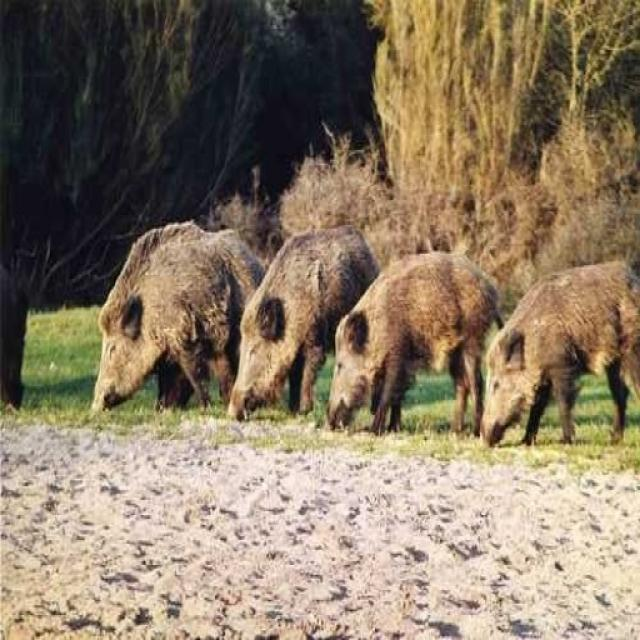pig: (212, 160, 368, 477), (324, 216, 505, 484), (68, 216, 247, 457), (475, 256, 640, 484)
